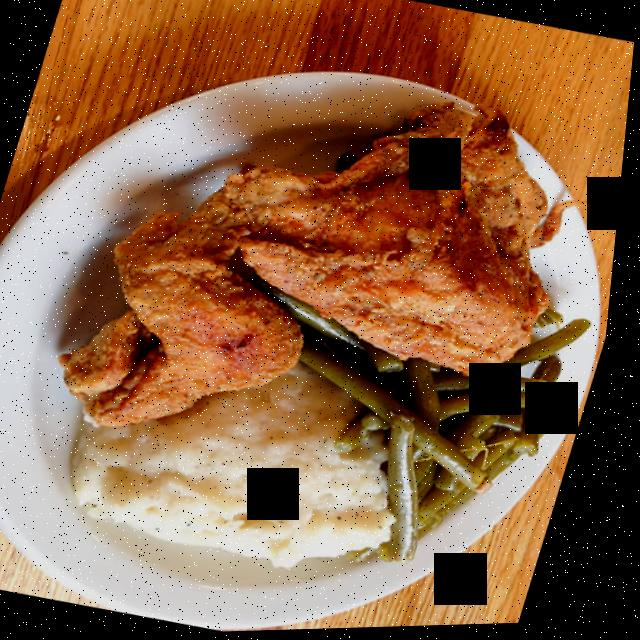Frango: (36, 26, 617, 512)
